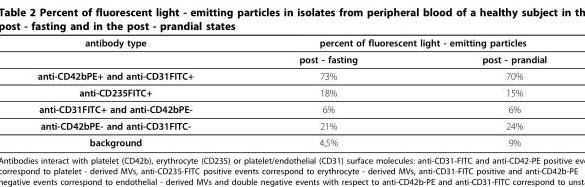table: (36, 36, 546, 147)
table column: (36, 36, 245, 147), (245, 36, 419, 147), (419, 36, 546, 147)
table column header: (36, 36, 546, 67)
table row: (36, 50, 546, 67), (36, 83, 546, 100), (36, 100, 546, 117), (36, 67, 546, 83), (36, 117, 546, 133), (36, 36, 546, 50), (36, 133, 546, 147)
table spanning cell: (36, 36, 245, 67), (245, 36, 546, 50)
